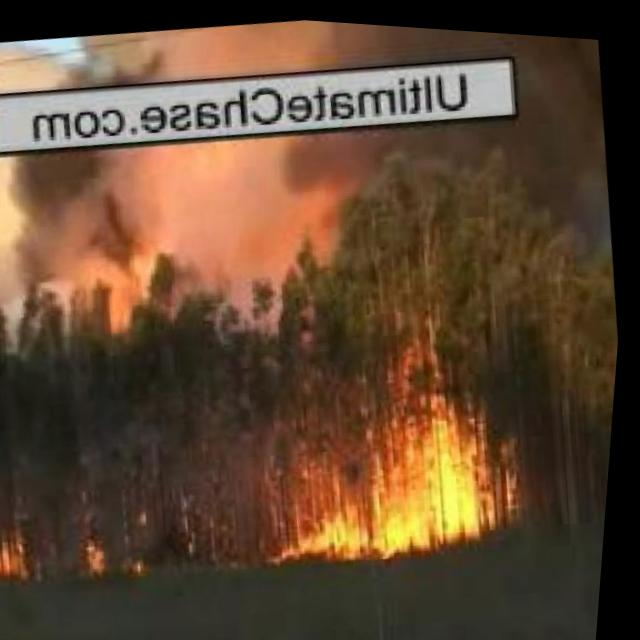Fire: (271, 384, 513, 565), (0, 514, 44, 577), (83, 529, 114, 573)
